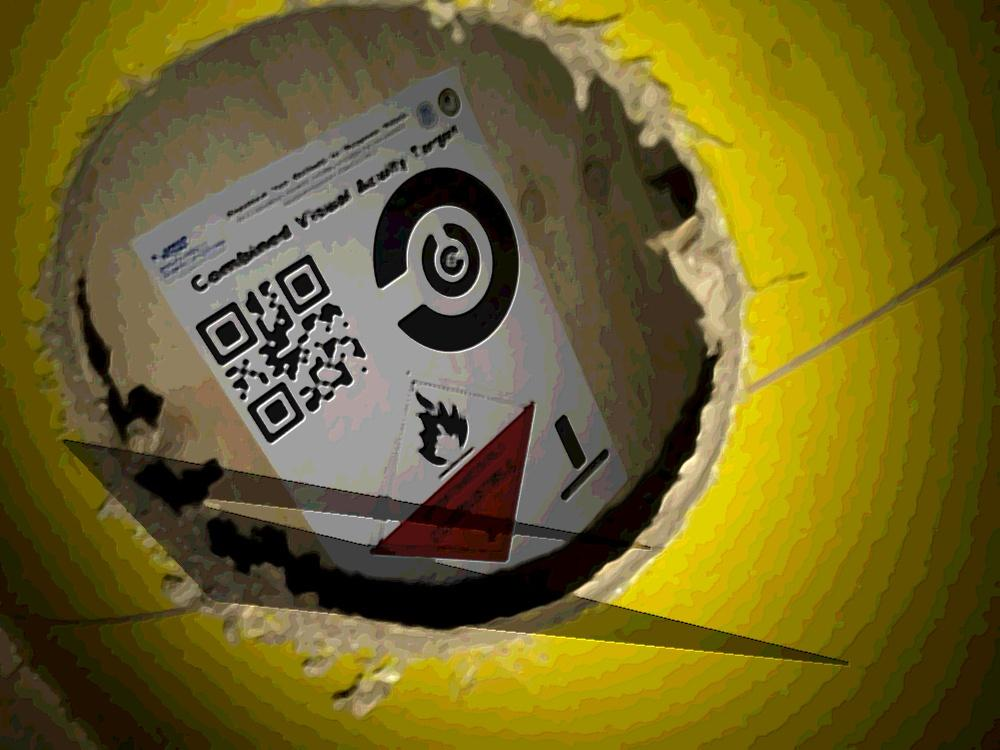spontaneously-combustible: (369, 369, 534, 563)
